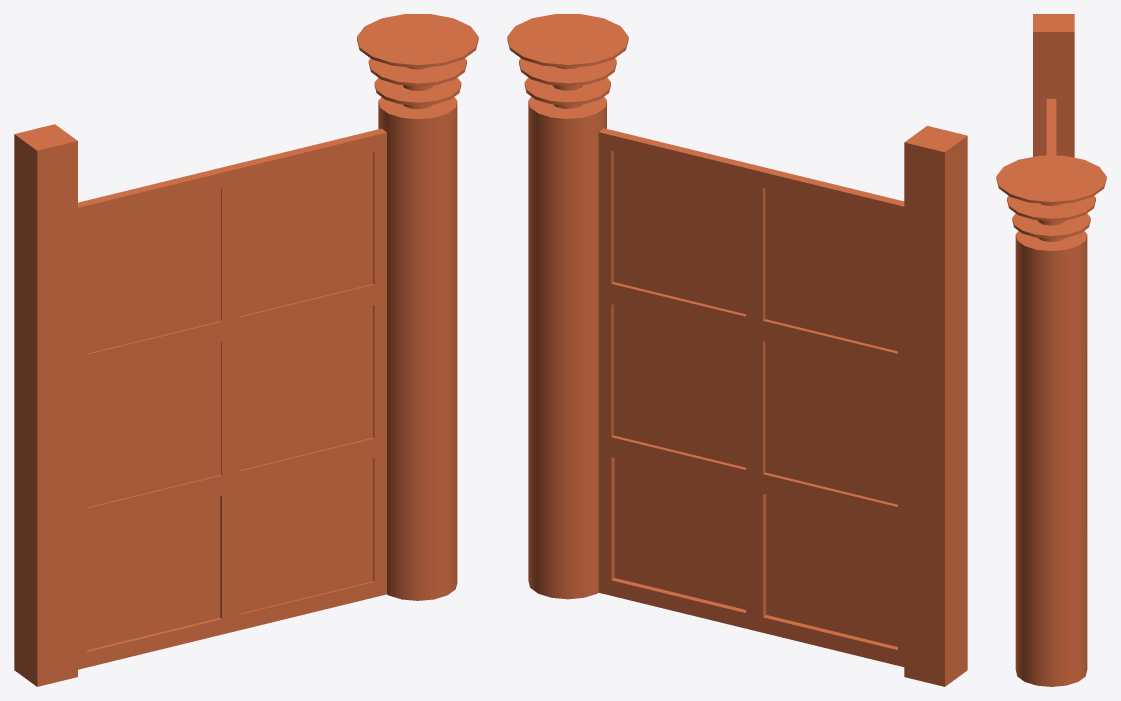
The picture shows the model from 3 angles, left to right: view 1: azimuth 30°, elevation 25°; view 2: azimuth 150°, elevation 25°; view 3: azimuth 270°, elevation 25°; orthographic projection. The views are drawn at different scales.
Parts seen in each view (by area): view 1: 小门; view 2: 小门; view 3: 小门.
Part boxes in pixels (x1,y1,x2,y2): 小门: (14, 14, 478, 686); 小门: (507, 14, 967, 686); 小门: (996, 14, 1106, 686).
Bounding box in the file's own units: 9.51 × 11.16 × 2.26.
